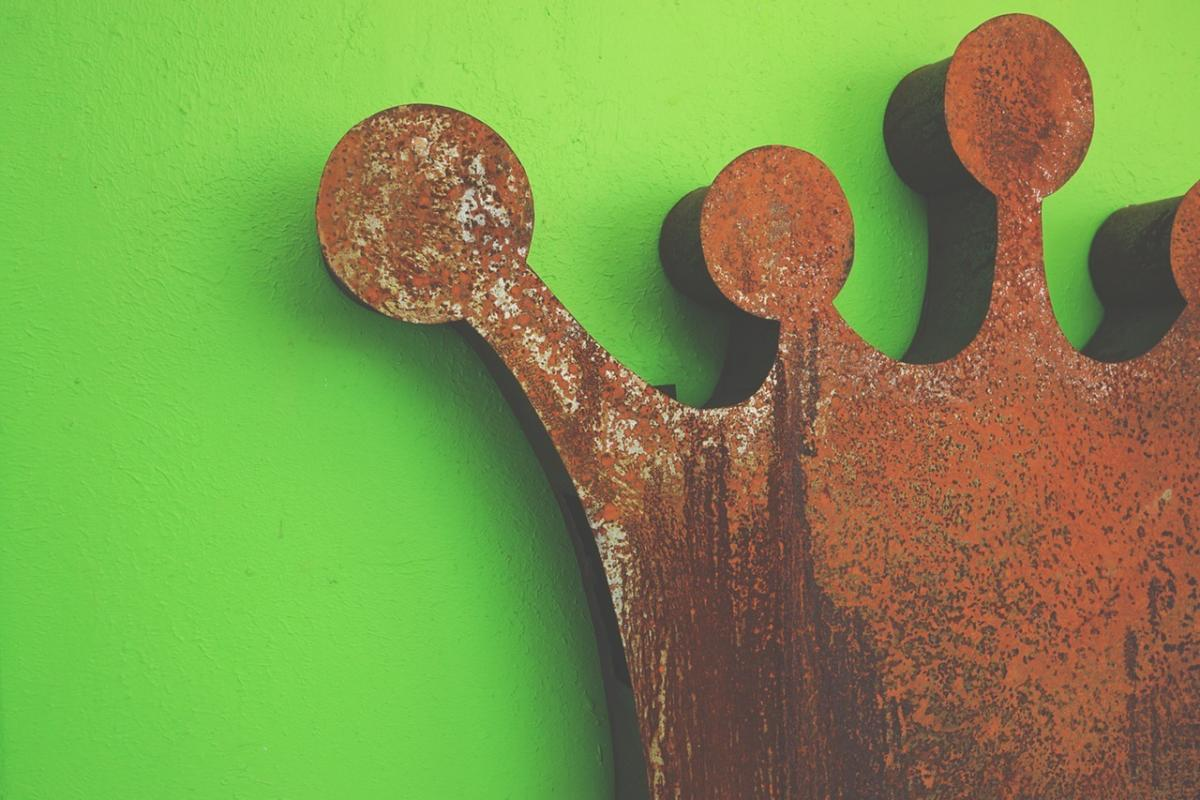rust: (615, 412, 1200, 797), (348, 138, 490, 289), (964, 40, 1090, 183), (720, 177, 841, 300)
